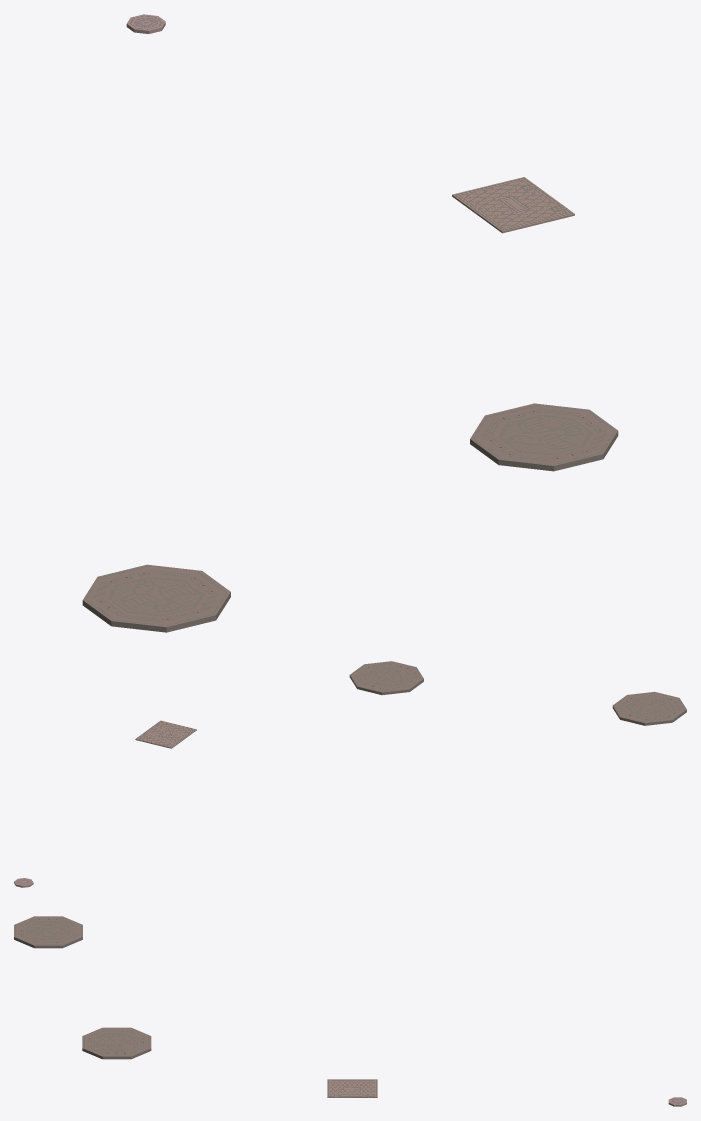
Rendered from kd_stage_135ded_1_1_bounded.glb.
3 renders of one model, top to bottom at view 1: azimuth 30°, elevation 25°; view 2: azimuth 150°, elevation 25°; view 3: azimuth 270°, elevation 25°, orthographic. The views are drawn at different scales.
Visible parts, largest first — view 1: kd_stage_135ded_1_1_bounded; view 2: kd_stage_135ded_1_1_bounded; view 3: kd_stage_135ded_1_1_bounded.
Part boxes in pixels (<box>): kd_stage_135ded_1_1_bounded: <box>82,14,618,632</box>; kd_stage_135ded_1_1_bounded: <box>14,661,686,887</box>; kd_stage_135ded_1_1_bounded: <box>14,916,686,1106</box>.
Size of the model in its own units: 4.43 by 0.2777 by 6.82.
Materials: 1 (1 with a texture image).
